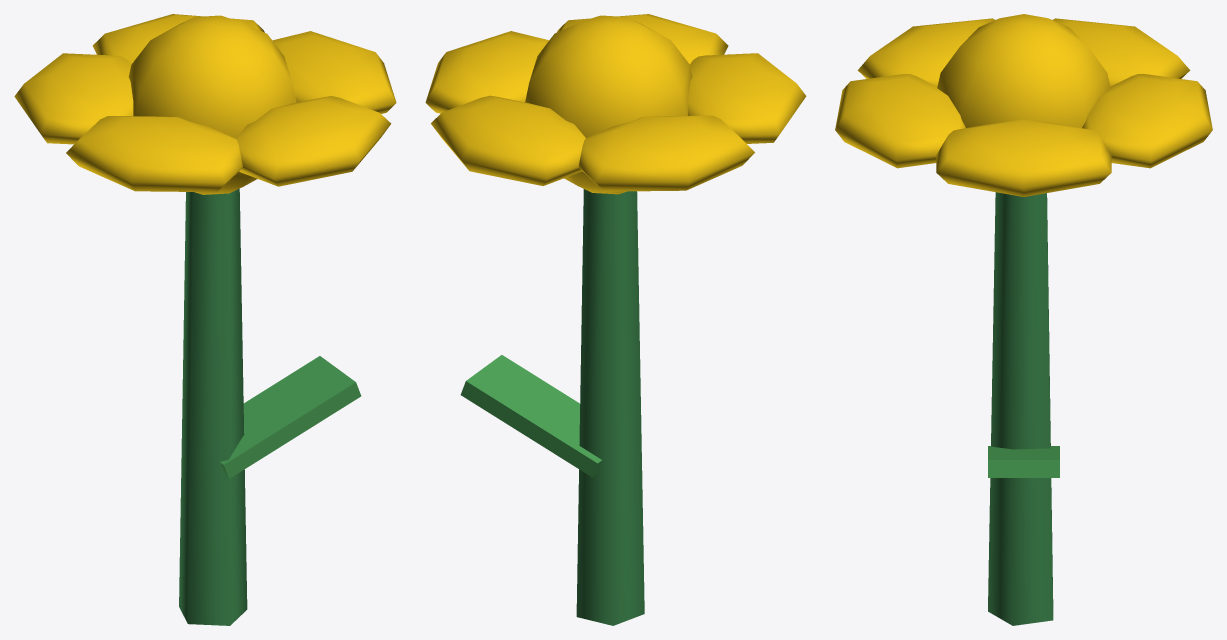
File: flower_yellowA.glb
3 renders of one model, left to right at view 1: azimuth 30°, elevation 25°; view 2: azimuth 150°, elevation 25°; view 3: azimuth 270°, elevation 25°, orthographic.
Visible parts, largest first — view 1: Kenney_Flower_YellowA; view 2: Kenney_Flower_YellowA; view 3: Kenney_Flower_YellowA.
Boxes of the visible parts, box(x1,y1,x2,y2) form: Kenney_Flower_YellowA: box(14, 14, 396, 625); Kenney_Flower_YellowA: box(425, 14, 806, 625); Kenney_Flower_YellowA: box(835, 14, 1212, 625).
Size of the model in its own units: 0.4226 by 0.72 by 0.4185.
